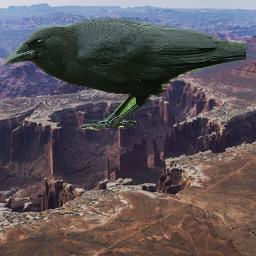Crow: (3, 18, 248, 132)
